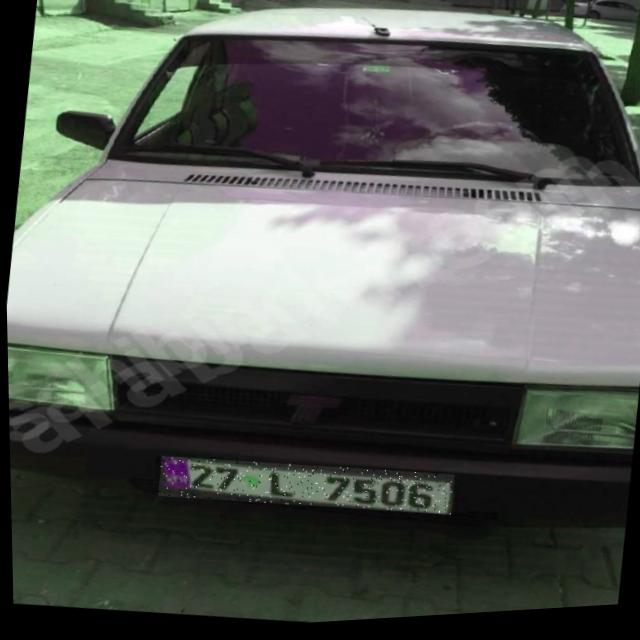license_plate: (154, 444, 452, 533)
